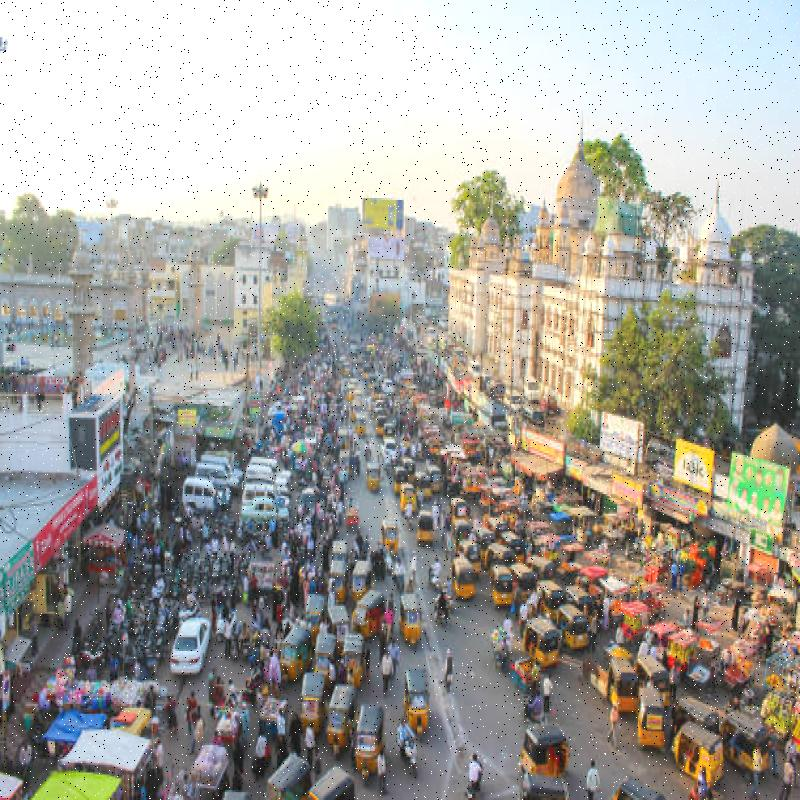auto: (626, 687, 679, 750), (355, 697, 393, 766), (543, 608, 588, 656), (330, 642, 372, 686), (605, 661, 640, 710), (454, 565, 488, 600), (514, 550, 537, 598), (353, 592, 377, 636), (407, 508, 435, 536)
